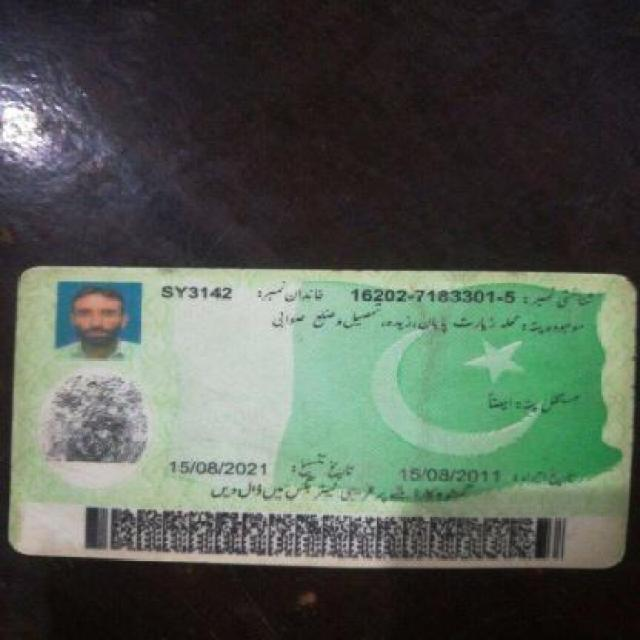Back: (6, 254, 623, 578)
